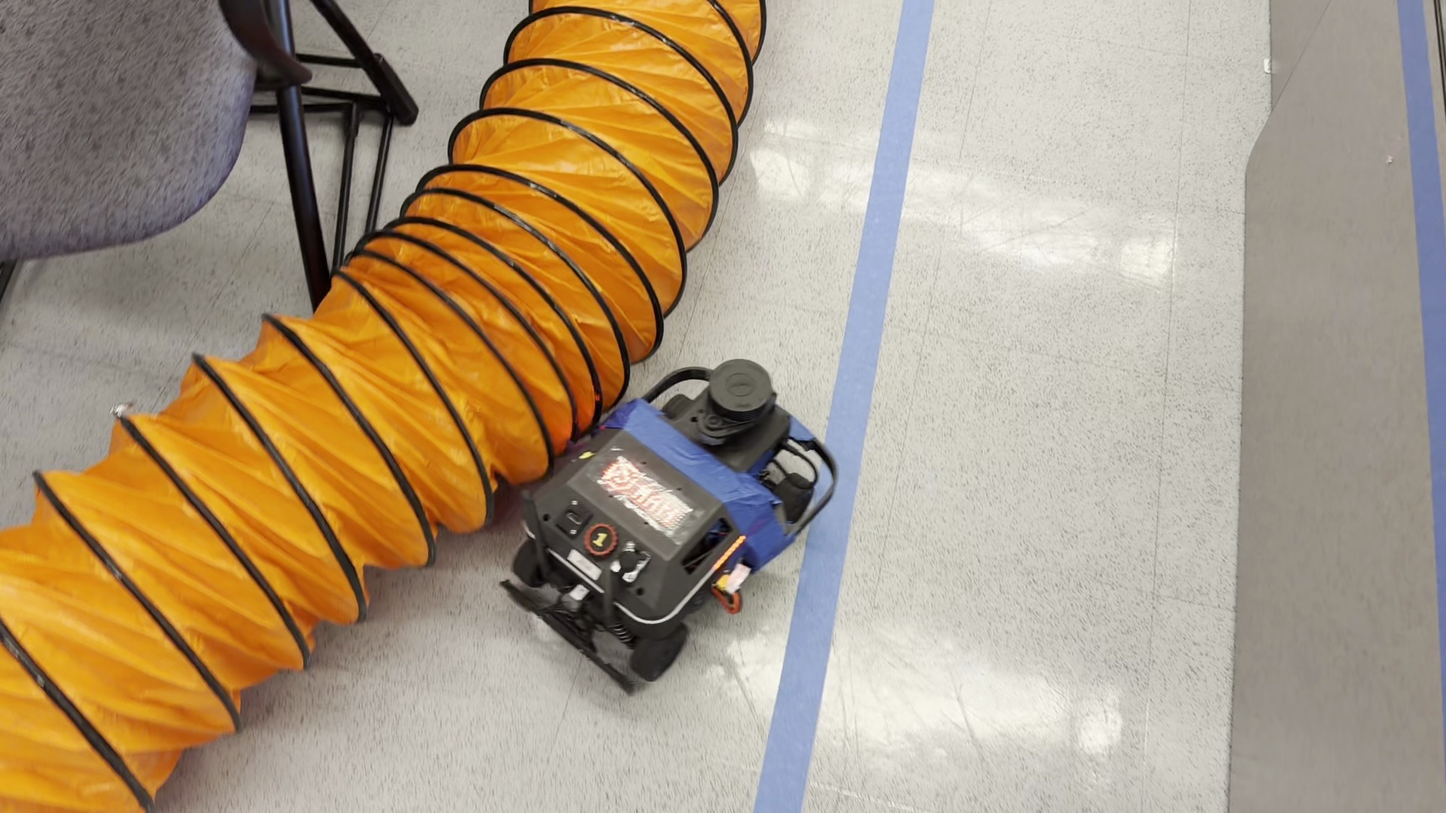racecar: (503, 357, 833, 690)
